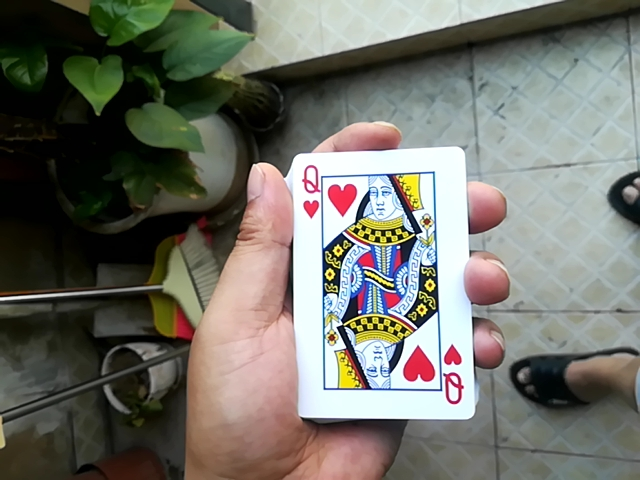hx q: (281, 139, 483, 431)
